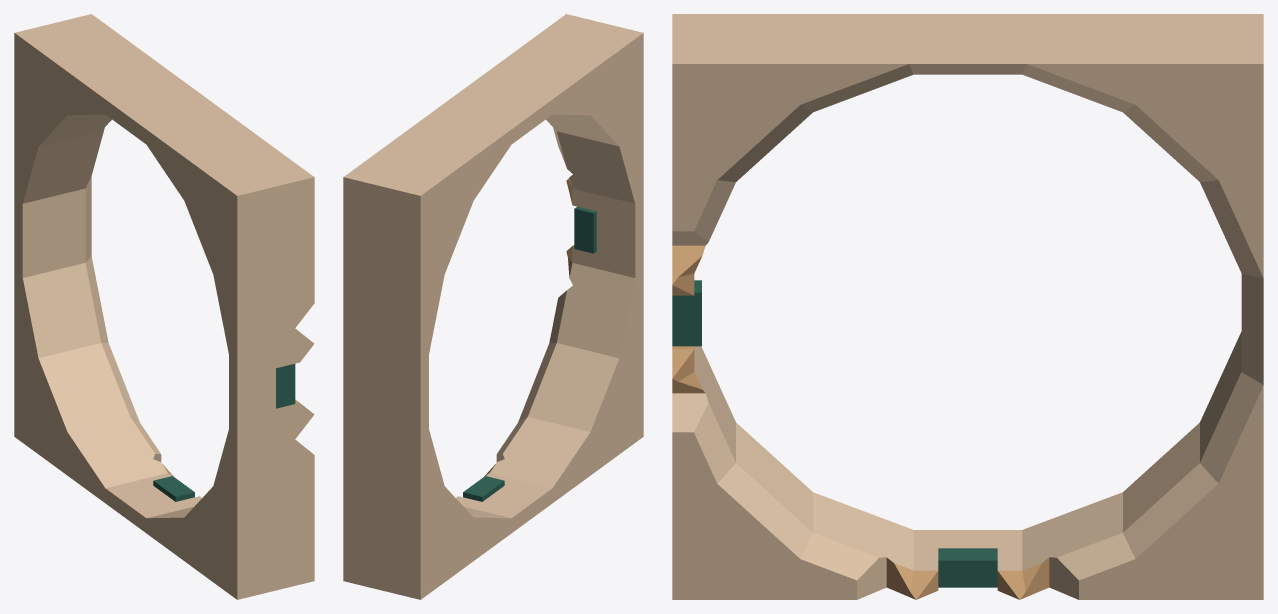
File: Energy_90.glb
3 renders of one model, left to right at view 1: azimuth 30°, elevation 25°; view 2: azimuth 150°, elevation 25°; view 3: azimuth 270°, elevation 25°, orthographic. The views are drawn at different scales.
Visible parts, largest first — view 1: mergedBlocks(Clone); view 2: mergedBlocks(Clone); view 3: mergedBlocks(Clone).
Boxes of the visible parts, box(x1,y1,x2,y2) form: mergedBlocks(Clone): box(14, 14, 314, 599); mergedBlocks(Clone): box(343, 14, 643, 599); mergedBlocks(Clone): box(672, 14, 1263, 599).
Bounding box in the file's own units: 0.6 × 3 × 3.
